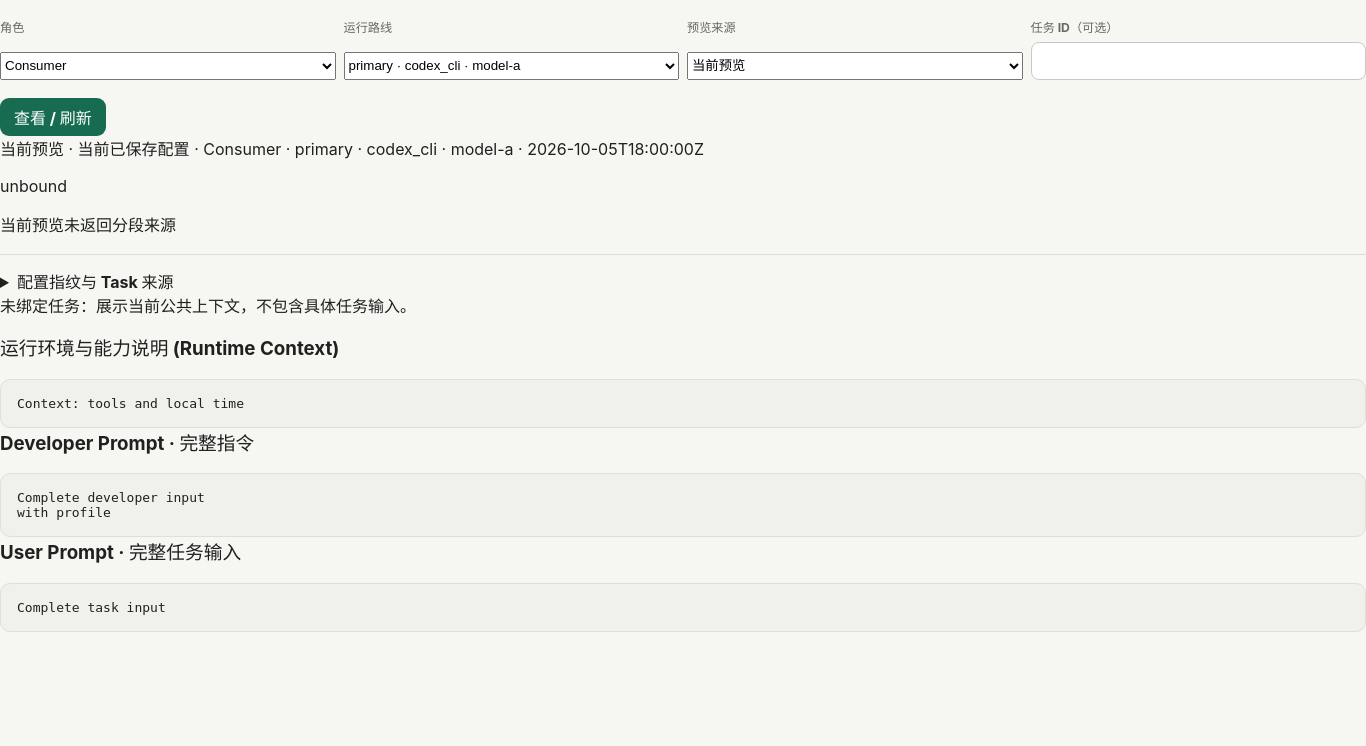
RuntimePromptPreview › requests selected role, route and task and shows Claude service input
Select "Audit" in the dropdown labelled "角色" at (168, 66), box [0,52,336,80]
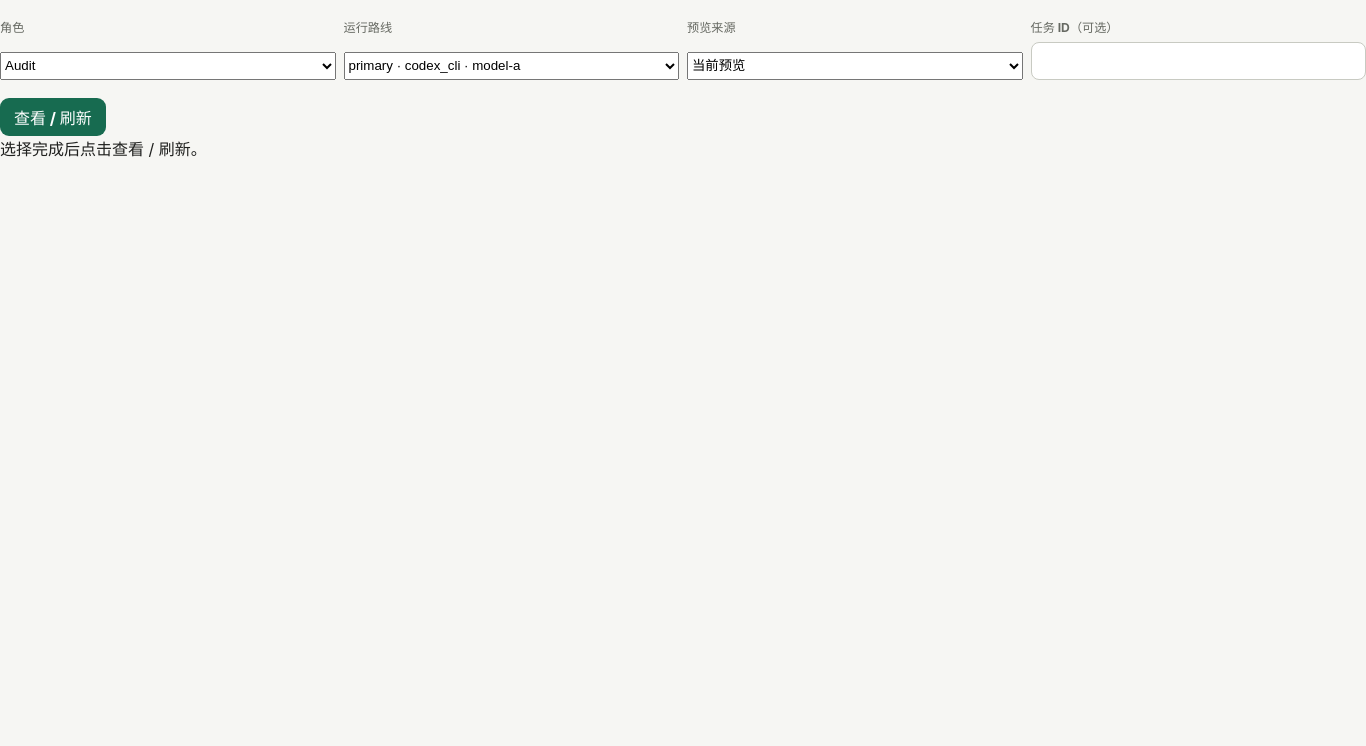
Select "claude · claude_cli · model-b" in the dropdown labelled "运行路线" at (511, 66), box [344,52,679,80]
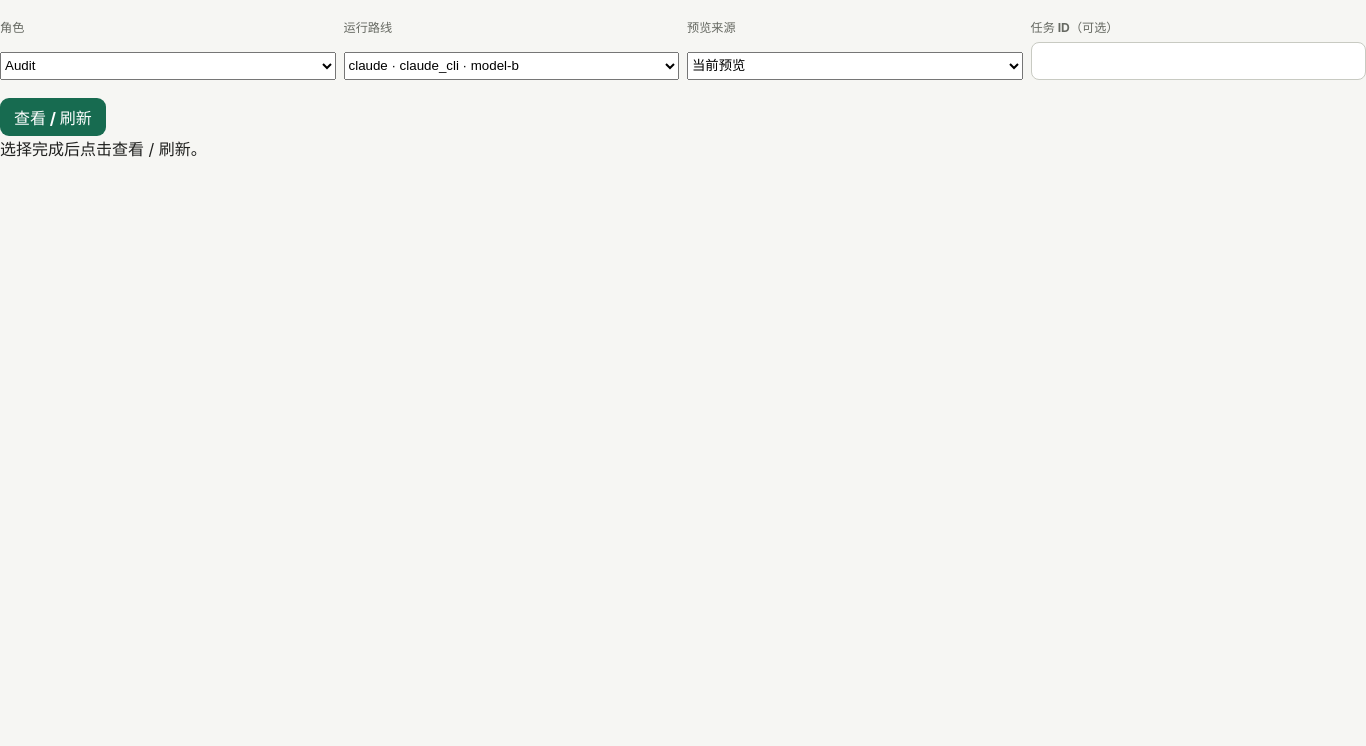
Type "42" into the number field labelled "任务 ID（可选）" at (1198, 61), box [1030,42,1365,80]
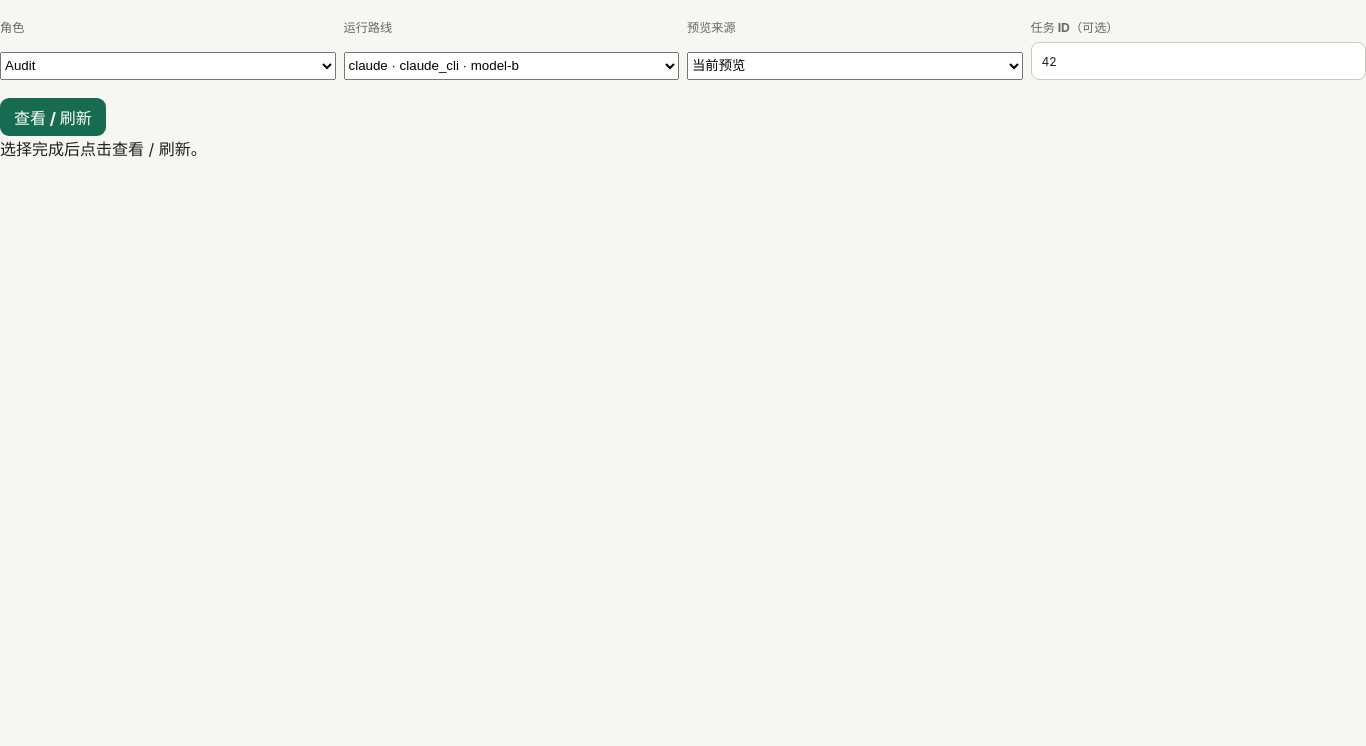
Click the button "查看 / 刷新" at (53, 117), box [0,98,106,136]
(page scrolled)
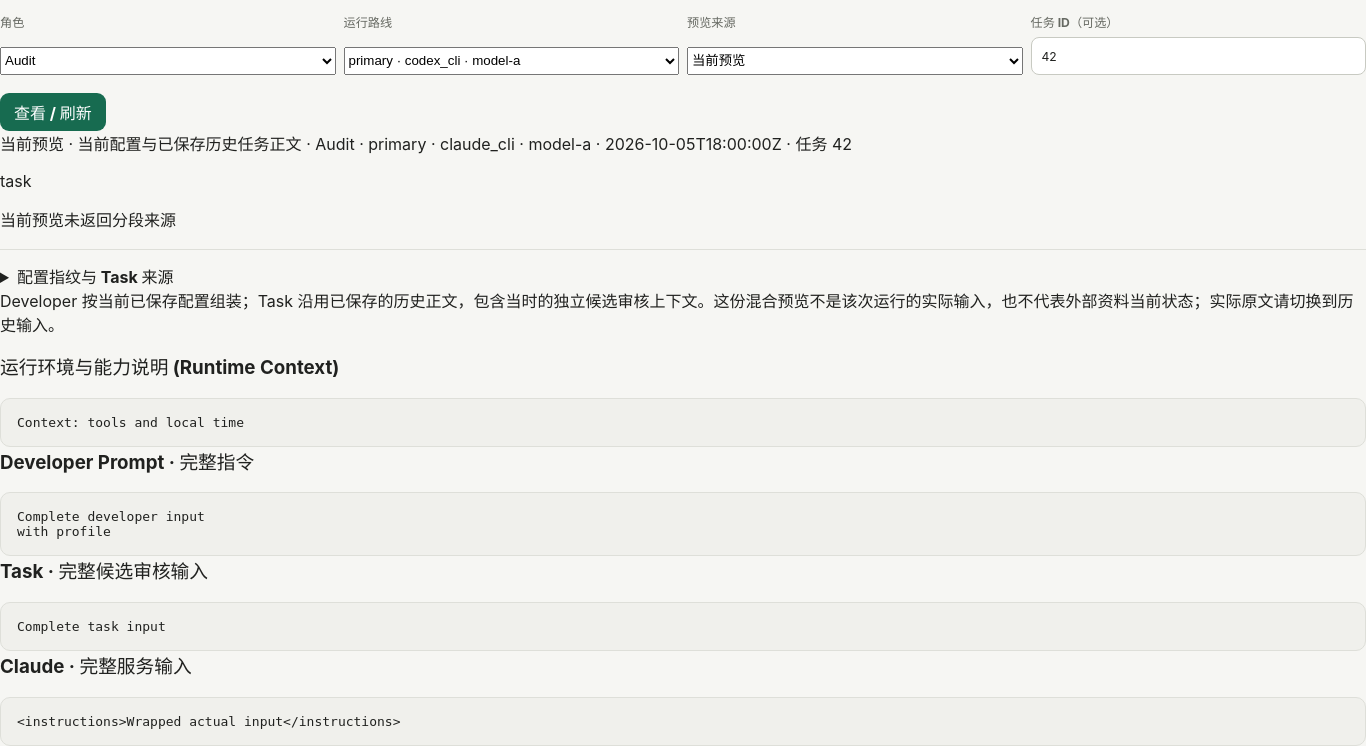
Expected: the text "<instructions>Wrapped actual input</instructions>" is shown, [0,697,1365,745]
